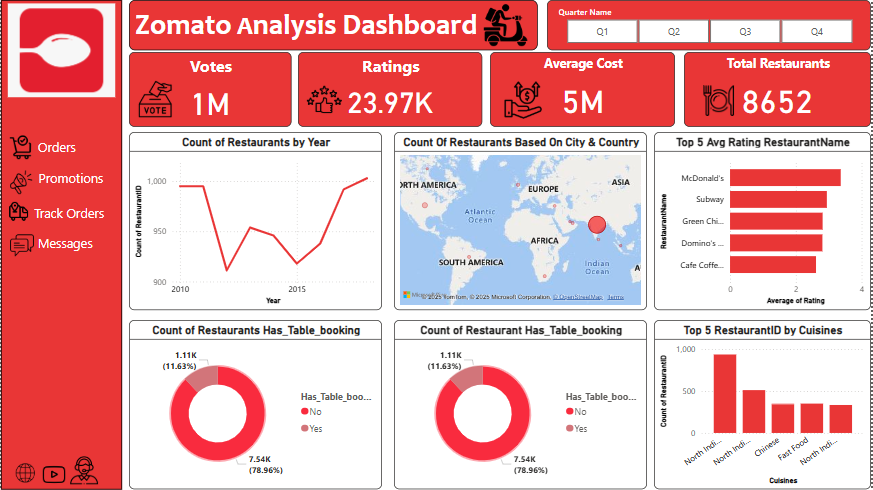

What the dashboard file says about the page in this screenshot:
{"tool":"powerbi","page":{"name":"Page 1","canvas":[1280,720],"ordinal":0},"visuals":[{"type":"textbox","box":[10,0,541.7,113.3],"z":0},{"type":"textbox","box":[0,0,178.3,720.3],"z":1000},{"type":"textbox","box":[188.4,0,601.4,73.9],"z":2000},{"type":"map","title":"Count Of Restaurants Based On City & Country","fields":{"Category":["Country.Countryname","Main.City"],"Size":["CountNonNull(Main.RestaurantID)"]},"box":[578.3,194.2,372.5,262.3],"z":3000},{"type":"card","title":"Votes","fields":{"Values":["Sum(Main.Votes)"]},"box":[188.4,76.8,239.1,110.1],"z":4000},{"type":"card","title":"Ratings","fields":{"Values":["Sum(Main.Rating)"]},"box":[436.2,76.8,271,110.1],"z":5000},{"type":"card","title":"Average Cost","fields":{"Values":["Sum(Main.Average_Cost_for_two)"]},"box":[718.8,76.8,272.5,110.1],"z":6000},{"type":"donutChart","title":"Count of Restaurant Has_Table_booking","fields":{"Y":["CountNonNull(Main.RestaurantID)"],"Category":["Main.Has_Table_booking"]},"box":[578.3,471,372.5,249.3],"z":7000},{"type":"donutChart","title":"Count of Restaurants Has_Table_booking","fields":{"Y":["CountNonNull(Main.RestaurantID)"],"Category":["Main.Has_Table_booking"]},"box":[188.4,471,372.5,249.3],"z":8000},{"type":"lineChart","title":"Count of Restaurants by Year","fields":{"Category":["Calender table.Year"],"Y":["CountNonNull(Main.RestaurantID)"]},"box":[188.4,194.2,372.5,262.3],"z":9000},{"type":"barChart","title":"Top 5 Avg Rating RestaurantName","fields":{"Y":["Avg(Main.Rating)"],"Category":["Main.RestaurantName"]},"box":[960.9,194.2,318.8,262.3],"z":10000},{"type":"columnChart","title":"Top 5 RestaurantID by Cuisines","fields":{"Category":["Main.Cuisines"],"Y":["CountNonNull(Main.RestaurantID)"]},"box":[960.9,471,318.8,249.3],"z":11000},{"type":"image","box":[0,194.2,56.5,44.9],"z":12000},{"type":"image","box":[0,244.9,59.4,44.9],"z":13000},{"type":"image","box":[0,289.9,52.2,42],"z":14000},{"type":"image","box":[4.3,337.7,52.2,44.9],"z":15000},{"type":"image","box":[52.2,676.8,52.2,43.5],"z":16000},{"type":"slicer","title":"Quarter","fields":{"Values":["Calender table.Quarter Name"]},"box":[802.9,0,476.5,73.5],"z":17000},{"type":"image","box":[675.4,0,134.8,73.9],"z":18000},{"type":"card","title":"Total Restaurants","fields":{"Values":["CountNonNull(Main.RestaurantName)"]},"box":[1004.3,76.8,275.4,110.1],"z":19000},{"type":"image","box":[1024.6,120.3,60.9,55.1],"z":20000},{"type":"image","box":[731.9,114.5,71,65.2],"z":21000},{"type":"image","box":[427.5,113,95.7,65.2],"z":22000},{"type":"image","box":[188.2,113.2,76.5,64.7],"z":23000},{"type":"image","box":[0,0,178.3,147.8],"z":24000},{"type":"image","box":[14.5,676.8,42,37.7],"z":25000},{"type":"image","box":[89.9,666.7,65.2,50.7],"z":26000}]}

Visuals, with their boxes in screenshot pixels (x1, y1, x2, y2), scaled from the page's 1280x720 canvas onto the 873x490 screenshot:
textbox: x1=7 y1=0 x2=376 y2=77
textbox: x1=0 y1=0 x2=122 y2=489
textbox: x1=128 y1=0 x2=539 y2=50
"Count Of Restaurants Based On City & Country" map: x1=394 y1=132 x2=648 y2=311
"Votes" card: x1=128 y1=52 x2=292 y2=127
"Ratings" card: x1=298 y1=52 x2=482 y2=127
"Average Cost" card: x1=490 y1=52 x2=676 y2=127
"Count of Restaurant Has_Table_booking" donutChart: x1=394 y1=321 x2=648 y2=489
"Count of Restaurants Has_Table_booking" donutChart: x1=128 y1=321 x2=383 y2=489
"Count of Restaurants by Year" lineChart: x1=128 y1=132 x2=383 y2=311
"Top 5 Avg Rating RestaurantName" barChart: x1=655 y1=132 x2=872 y2=311
"Top 5 RestaurantID by Cuisines" columnChart: x1=655 y1=321 x2=872 y2=489
image: x1=0 y1=132 x2=39 y2=163
image: x1=0 y1=167 x2=41 y2=197
image: x1=0 y1=197 x2=36 y2=226
image: x1=3 y1=230 x2=39 y2=260
image: x1=36 y1=461 x2=71 y2=489
"Quarter" slicer: x1=548 y1=0 x2=872 y2=50
image: x1=461 y1=0 x2=553 y2=50
"Total Restaurants" card: x1=685 y1=52 x2=872 y2=127
image: x1=699 y1=82 x2=740 y2=119
image: x1=499 y1=78 x2=548 y2=122
image: x1=292 y1=77 x2=357 y2=121
image: x1=128 y1=77 x2=181 y2=121
image: x1=0 y1=0 x2=122 y2=101
image: x1=10 y1=461 x2=39 y2=486
image: x1=61 y1=454 x2=106 y2=488
